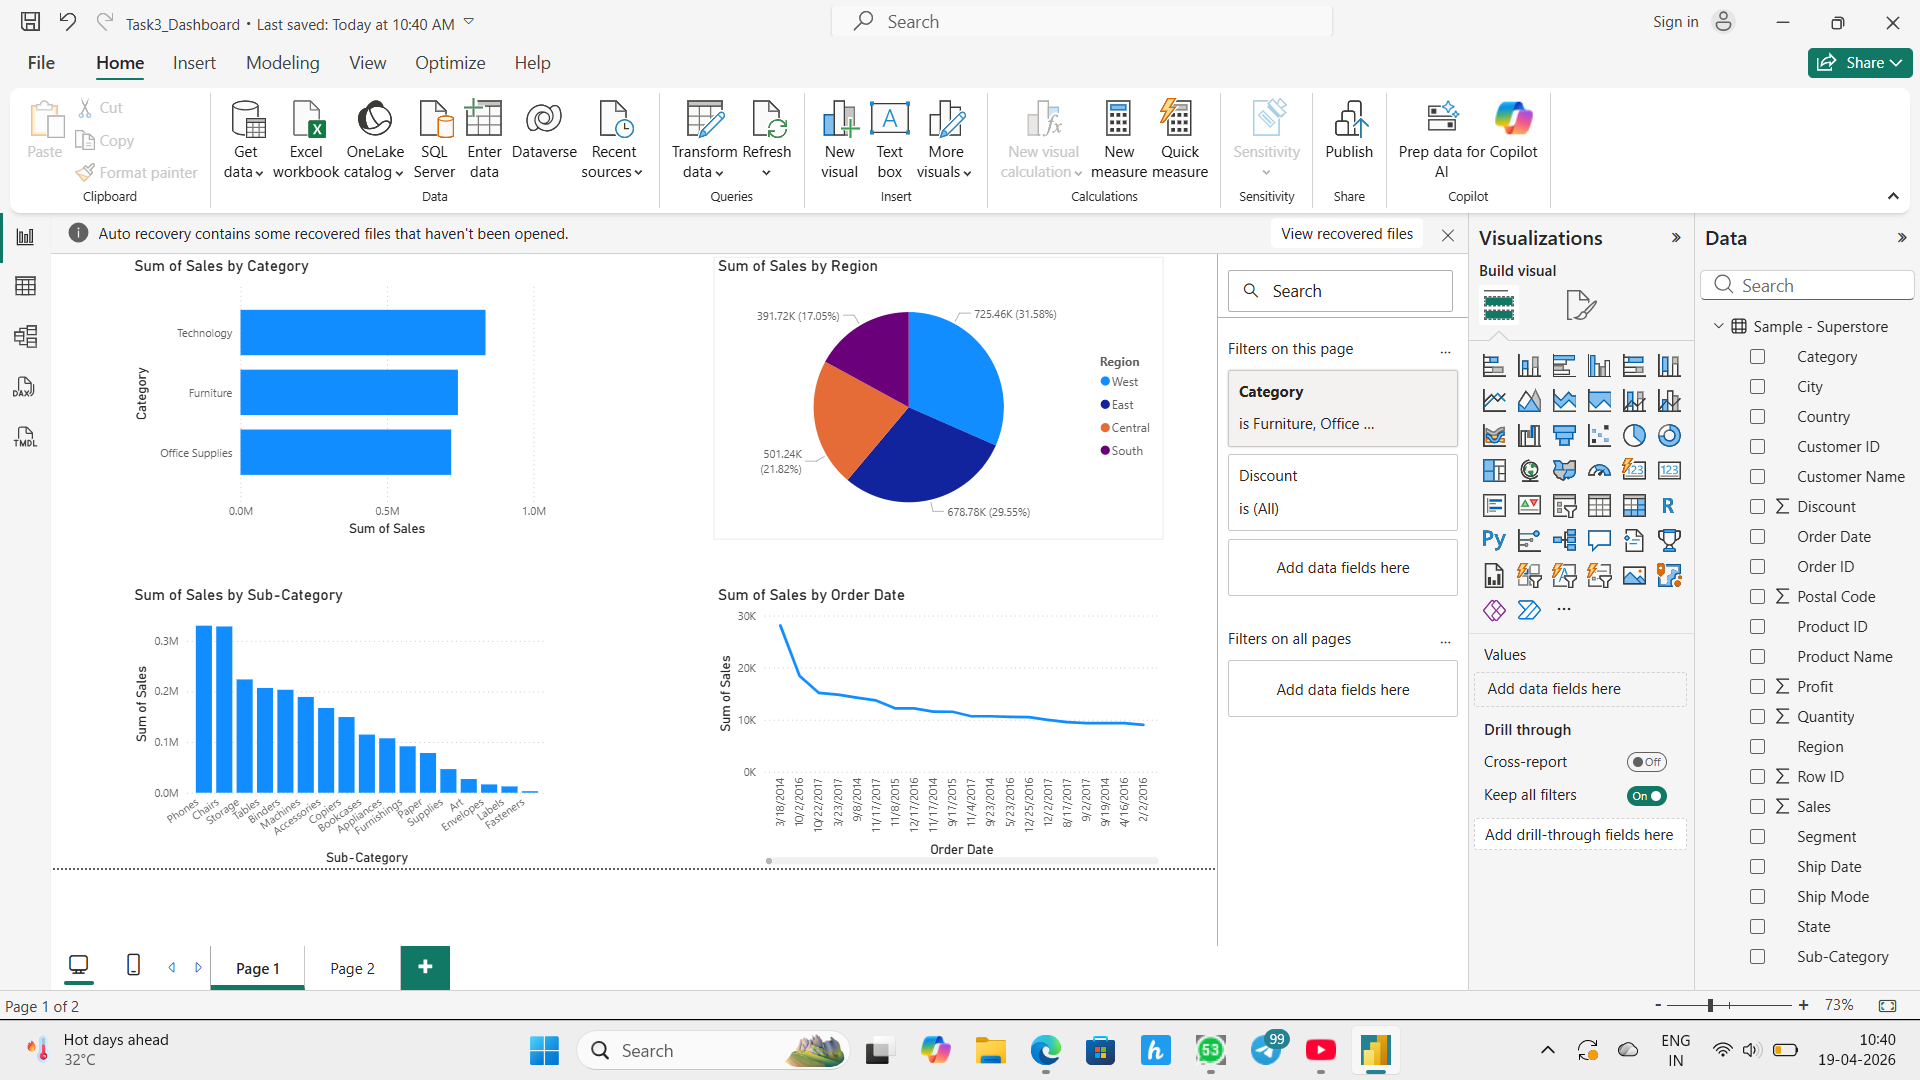

The dashboard page shown, as its layout file describes it:
{"tool":"powerbi","page":{"name":"Page 1","canvas":[1280,720],"ordinal":0},"visuals":[{"type":"barChart","fields":{"Category":["Sample - Superstore.Category"],"Y":["Sum(Sample - Superstore.Sales)"]},"box":[85.9,47.6,462.4,311.5],"z":0},{"type":"pieChart","fields":{"Category":["Sample - Superstore.Region"],"Y":["Sum(Sample - Superstore.Sales)"]},"box":[727.3,47.6,494,311.5],"z":1000},{"type":"clusteredColumnChart","fields":{"Category":["Sample - Superstore.Sub-Category"],"Y":["Sum(Sample - Superstore.Sales)"]},"box":[85.9,408.5,462.4,311.5],"z":2000},{"type":"lineChart","fields":{"Category":["Sample - Superstore.Order Date"],"Y":["Sum(Sample - Superstore.Sales)"]},"box":[726.7,408.5,494,311.5],"z":3000}]}

Visuals, with their boxes on the page's 1280x720 design canvas (x1, y1, x2, y2). These are canvas units, not pixel positions in the 1920x1080 screenshot, which may show the page scaled, cropped or inside an application window:
barChart - Sample - Superstore.Category x Sum(Sample - Superstore.Sales): <bbox>86, 48, 548, 359</bbox>
pieChart - Sample - Superstore.Region x Sum(Sample - Superstore.Sales): <bbox>727, 48, 1221, 359</bbox>
clusteredColumnChart - Sample - Superstore.Sub-Category x Sum(Sample - Superstore.Sales): <bbox>86, 408, 548, 720</bbox>
lineChart - Sample - Superstore.Order Date x Sum(Sample - Superstore.Sales): <bbox>727, 408, 1221, 720</bbox>
